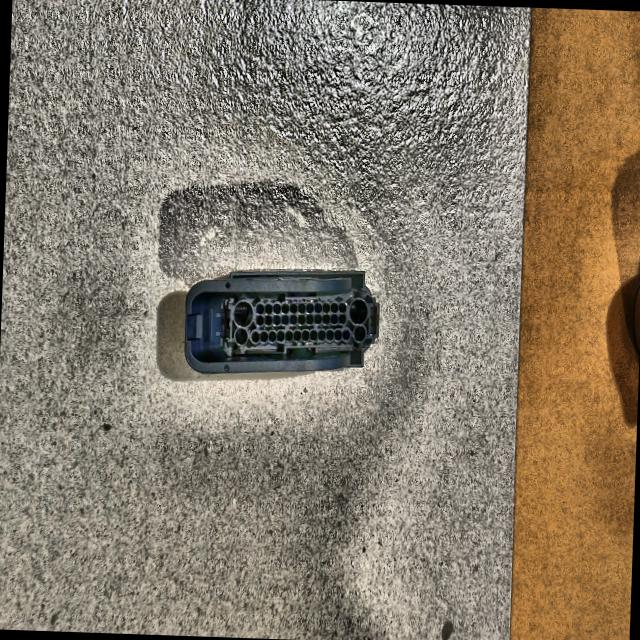P38: (183, 269, 378, 373)
